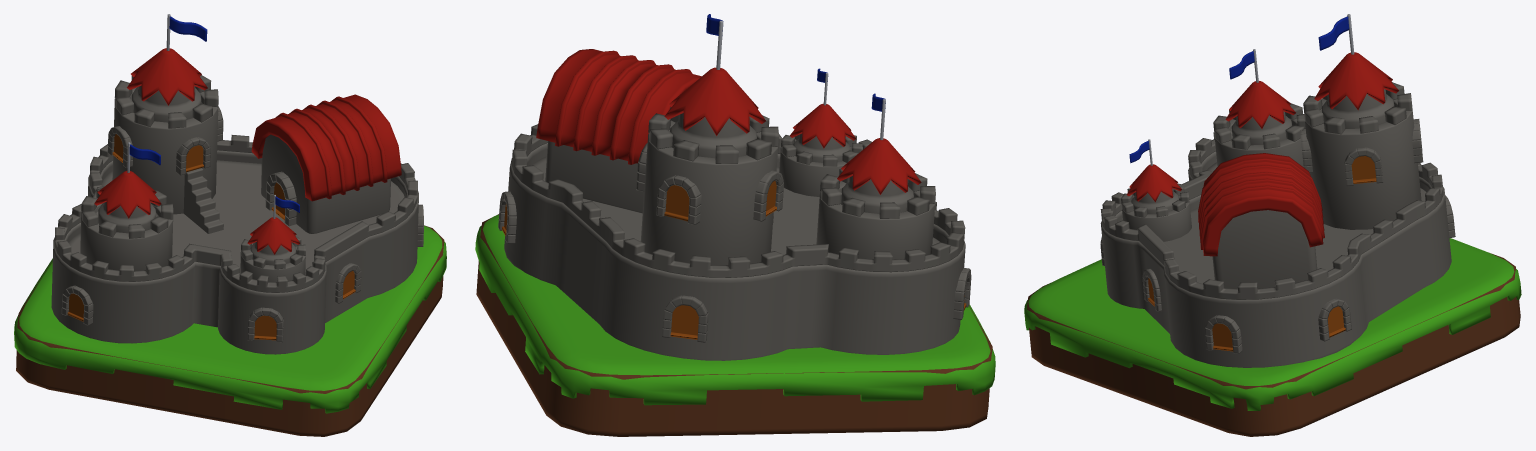
File: castillo_frutas_verduras.glb
The picture shows the model from 3 angles, left to right: view 1: azimuth 30°, elevation 25°; view 2: azimuth 150°, elevation 25°; view 3: azimuth 270°, elevation 25°; orthographic projection. The views are drawn at different scales.
Visible parts, largest first — view 1: Castle 10.028, Castle 10.015, Castle 10.001, Castle 10.022, Castle 10.017, Castle 10.013, Castle 10.016, Castle 10.020, Castle 10.011, Castle 10.007, Castle 10.023, Castle 10.005 (+11 smaller); view 2: Castle 10.015, Castle 10.028, Castle 10.001, Castle 10.013, Castle 10.022, Castle 10.017, Castle 10.011, Castle 10.020, Castle 10.007, Castle 10.016, Castle 10.005, Castle 10.012 (+8 smaller); view 3: Castle 10.028, Castle 10.015, Castle 10.001, Castle 10.013, Castle 10.017, Castle 10.022, Castle 10.020, Castle 10.016, Castle 10.007, Castle 10.011, Castle 10.023, Castle 10.012 (+9 smaller).
Boxes of the visible parts, x1=… form: Castle 10.028: x1=14, y1=225, x2=446, y2=413; Castle 10.015: x1=51, y1=150, x2=418, y2=354; Castle 10.001: x1=16, y1=225, x2=444, y2=436; Castle 10.022: x1=251, y1=94, x2=401, y2=201; Castle 10.017: x1=54, y1=135, x2=417, y2=292; Castle 10.013: x1=112, y1=75, x2=218, y2=214; Castle 10.016: x1=69, y1=160, x2=404, y2=275; Castle 10.020: x1=261, y1=134, x2=390, y2=233; Castle 10.011: x1=80, y1=188, x2=173, y2=270; Castle 10.007: x1=127, y1=48, x2=207, y2=105; Castle 10.023: x1=61, y1=204, x2=423, y2=342; Castle 10.005: x1=94, y1=171, x2=161, y2=218; Castle 10.015: x1=504, y1=143, x2=965, y2=360; Castle 10.028: x1=475, y1=214, x2=995, y2=405; Castle 10.001: x1=476, y1=214, x2=992, y2=436; Castle 10.013: x1=640, y1=107, x2=778, y2=265; Castle 10.022: x1=536, y1=49, x2=701, y2=164; Castle 10.017: x1=511, y1=124, x2=965, y2=277; Castle 10.011: x1=816, y1=169, x2=935, y2=259; Castle 10.020: x1=545, y1=141, x2=643, y2=213; Castle 10.007: x1=664, y1=67, x2=765, y2=135; Castle 10.016: x1=531, y1=156, x2=940, y2=254; Castle 10.005: x1=837, y1=138, x2=921, y2=194; Castle 10.012: x1=779, y1=134, x2=862, y2=196; Castle 10.028: x1=1024, y1=238, x2=1521, y2=410; Castle 10.015: x1=1100, y1=151, x2=1451, y2=367; Castle 10.001: x1=1027, y1=253, x2=1520, y2=436; Castle 10.013: x1=1303, y1=82, x2=1421, y2=229; Castle 10.017: x1=1100, y1=132, x2=1443, y2=299; Castle 10.022: x1=1198, y1=153, x2=1324, y2=256; Castle 10.020: x1=1212, y1=210, x2=1317, y2=288; Castle 10.016: x1=1164, y1=162, x2=1426, y2=283; Castle 10.007: x1=1314, y1=52, x2=1398, y2=110; Castle 10.011: x1=1213, y1=103, x2=1305, y2=166; Castle 10.023: x1=1100, y1=195, x2=1455, y2=353; Castle 10.012: x1=1121, y1=186, x2=1191, y2=241.
Size of the model in its own units: 8.89 by 6.49 by 8.87.
